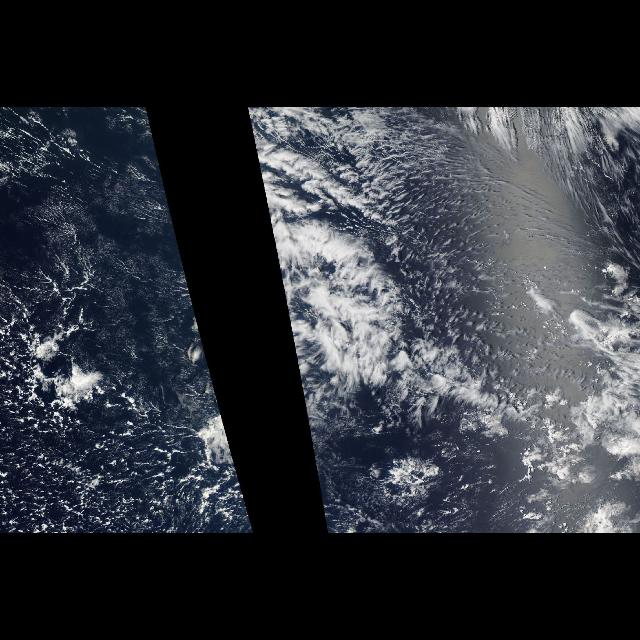Gravel: (2, 245, 246, 533)
Sugar: (0, 168, 208, 534), (398, 146, 596, 366)
